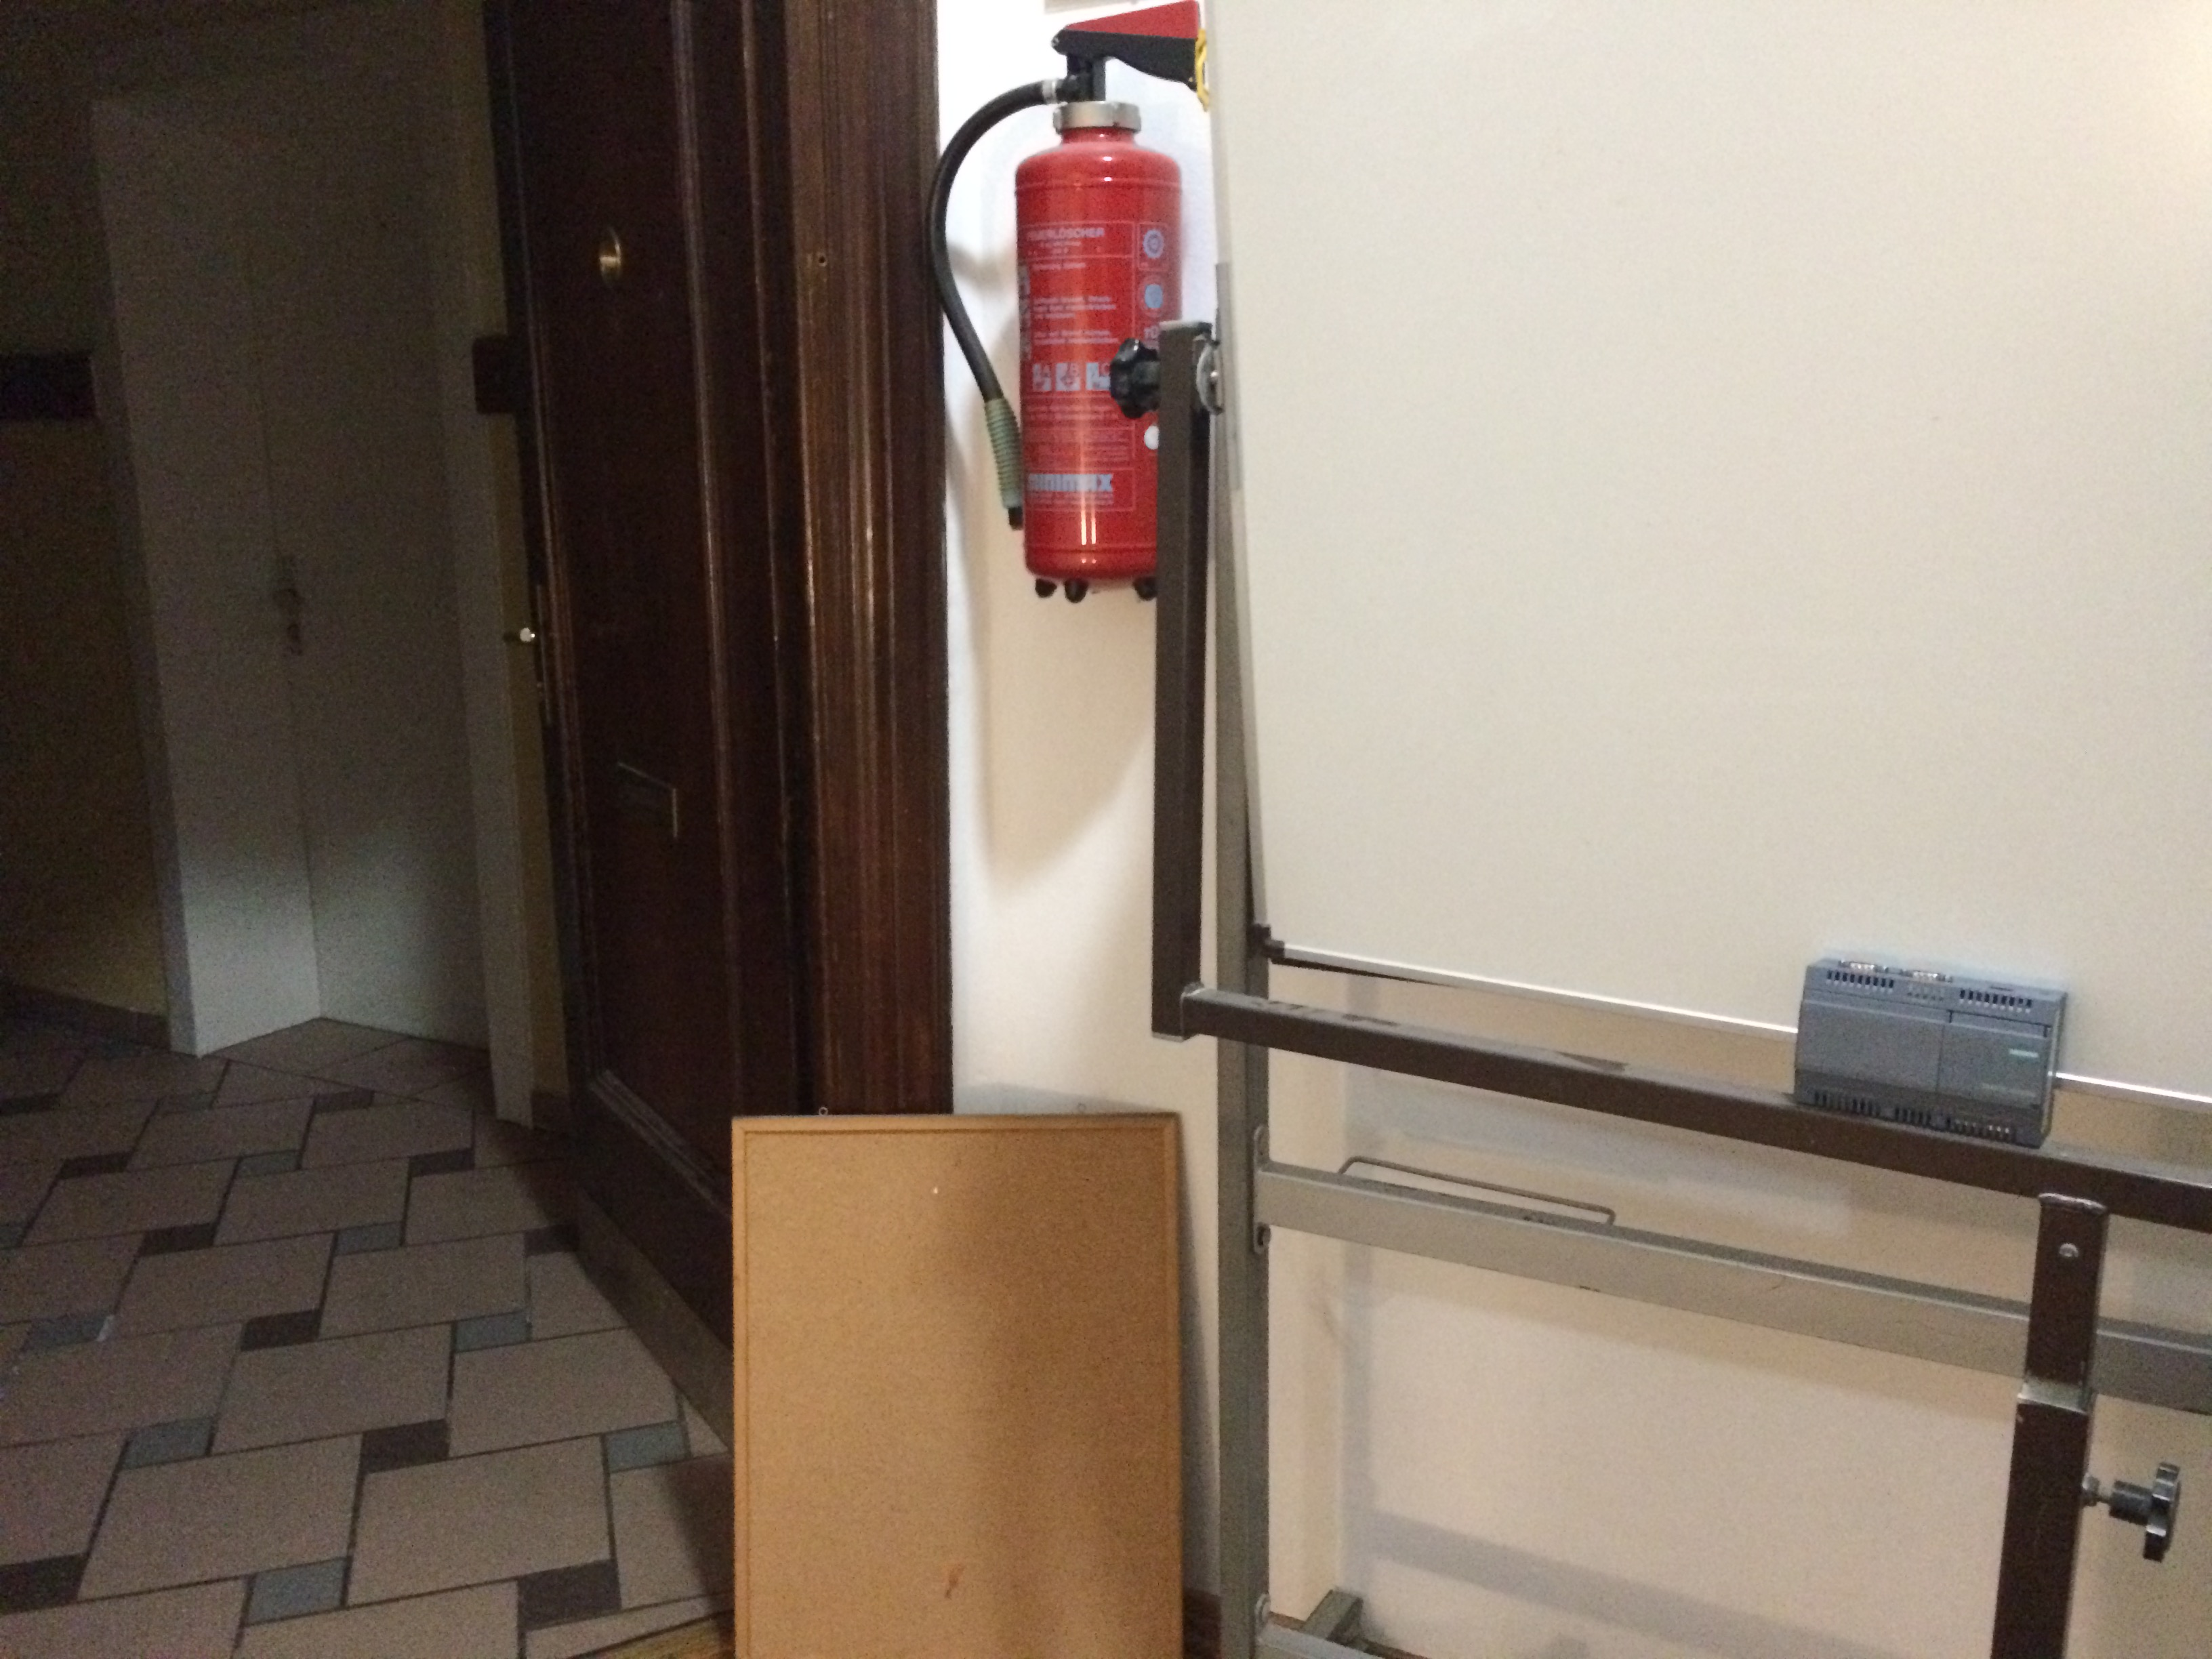iot2000: (1791, 951, 2073, 1155)
